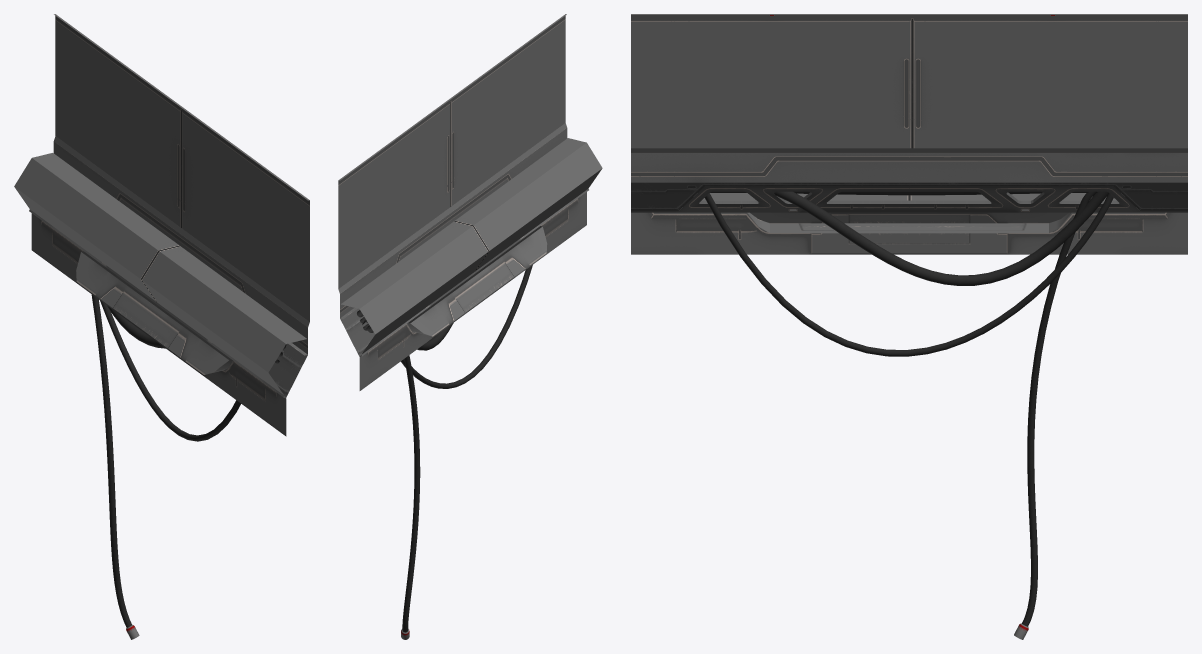
Rendered from TopCables_Straight_Hanging.gltf.
3 views of the same model, side by side, from view 1: azimuth 30°, elevation 25°; view 2: azimuth 150°, elevation 25°; view 3: azimuth 270°, elevation 25° (orthographic). The views are drawn at different scales.
Parts seen in each view (by area): view 1: TopCables_Straight_Hanging; view 2: TopCables_Straight_Hanging; view 3: TopCables_Straight_Hanging.
Part boxes in pixels (left/top/right/bottom): TopCables_Straight_Hanging: left=14, top=14, right=309, bottom=639; TopCables_Straight_Hanging: left=338, top=14, right=602, bottom=639; TopCables_Straight_Hanging: left=631, top=14, right=1187, bottom=639.
Bounding box in the file's own units: 0.4421 × 4.94 × 4.
4 materials, 4 textured.
